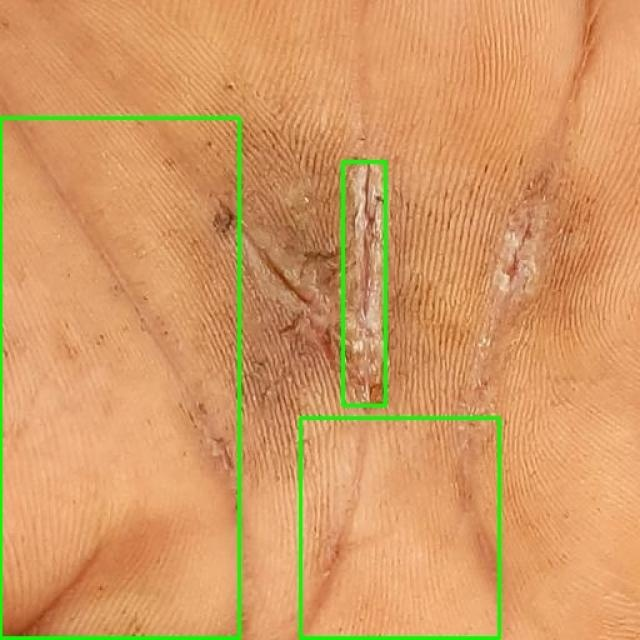Contact Dermatitis: (0, 118, 240, 639), (300, 419, 499, 639), (342, 161, 385, 405)
